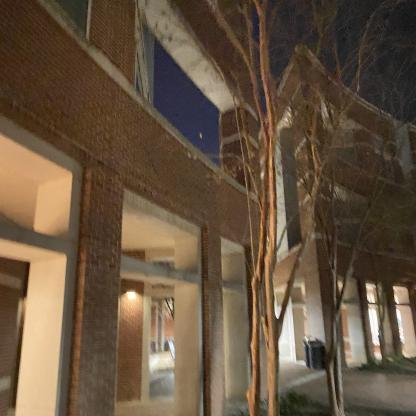eb2: (0, 6, 279, 407)
